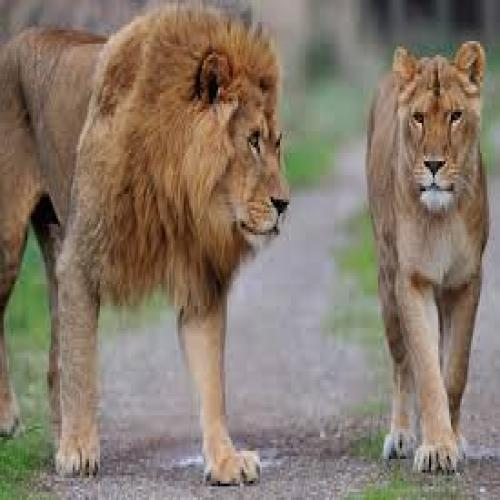lion-endangered: (0, 14, 291, 481), (367, 41, 488, 479)
